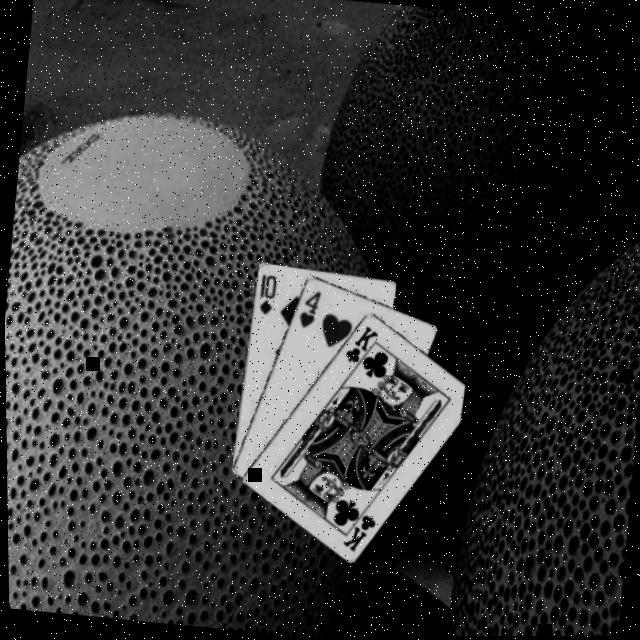10D: (251, 267, 277, 315)
4H: (291, 284, 322, 330)
KC: (335, 499, 377, 554), (337, 319, 379, 373)
